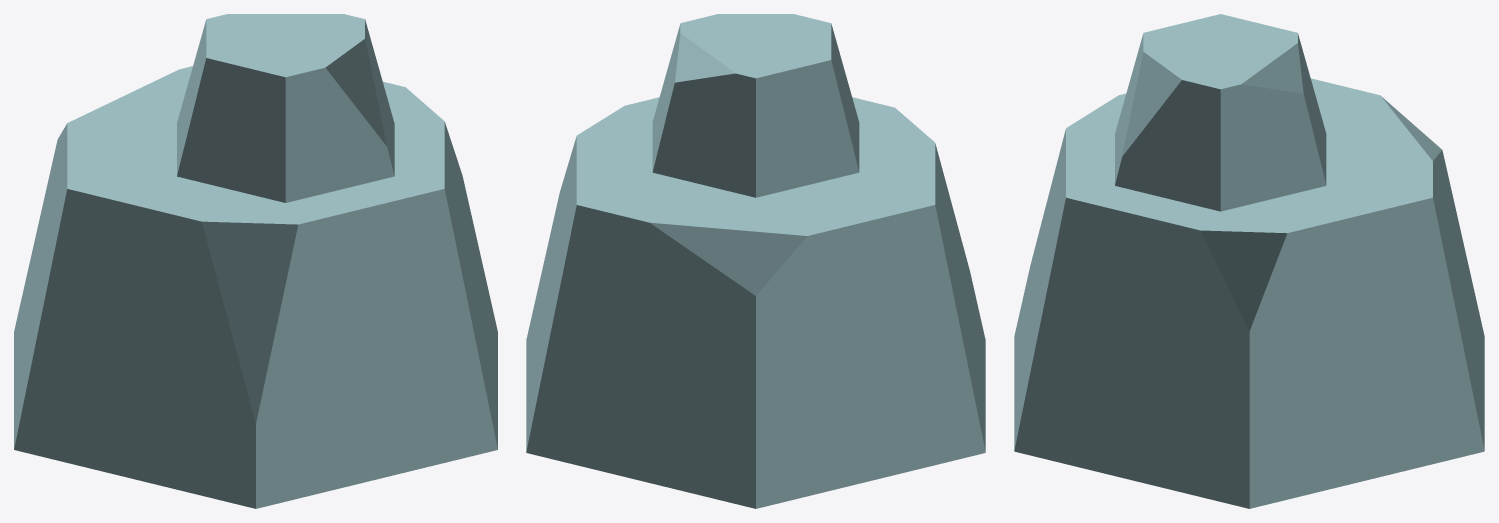
Rendered from stone_small5.obj.
3 renders of one model, left to right at view 1: azimuth 30°, elevation 25°; view 2: azimuth 150°, elevation 25°; view 3: azimuth 270°, elevation 25°, orthographic. The views are drawn at different scales.
Parts seen in each view (by area): view 1: stone_small5; view 2: stone_small5; view 3: stone_small5.
Part boxes in pixels (box(x1,y1,x2,y2)): stone_small5: box(14, 14, 497, 508); stone_small5: box(526, 14, 985, 508); stone_small5: box(1014, 14, 1484, 508).
Bounding box in the file's own units: 3.61 × 2.56 × 3.12.
